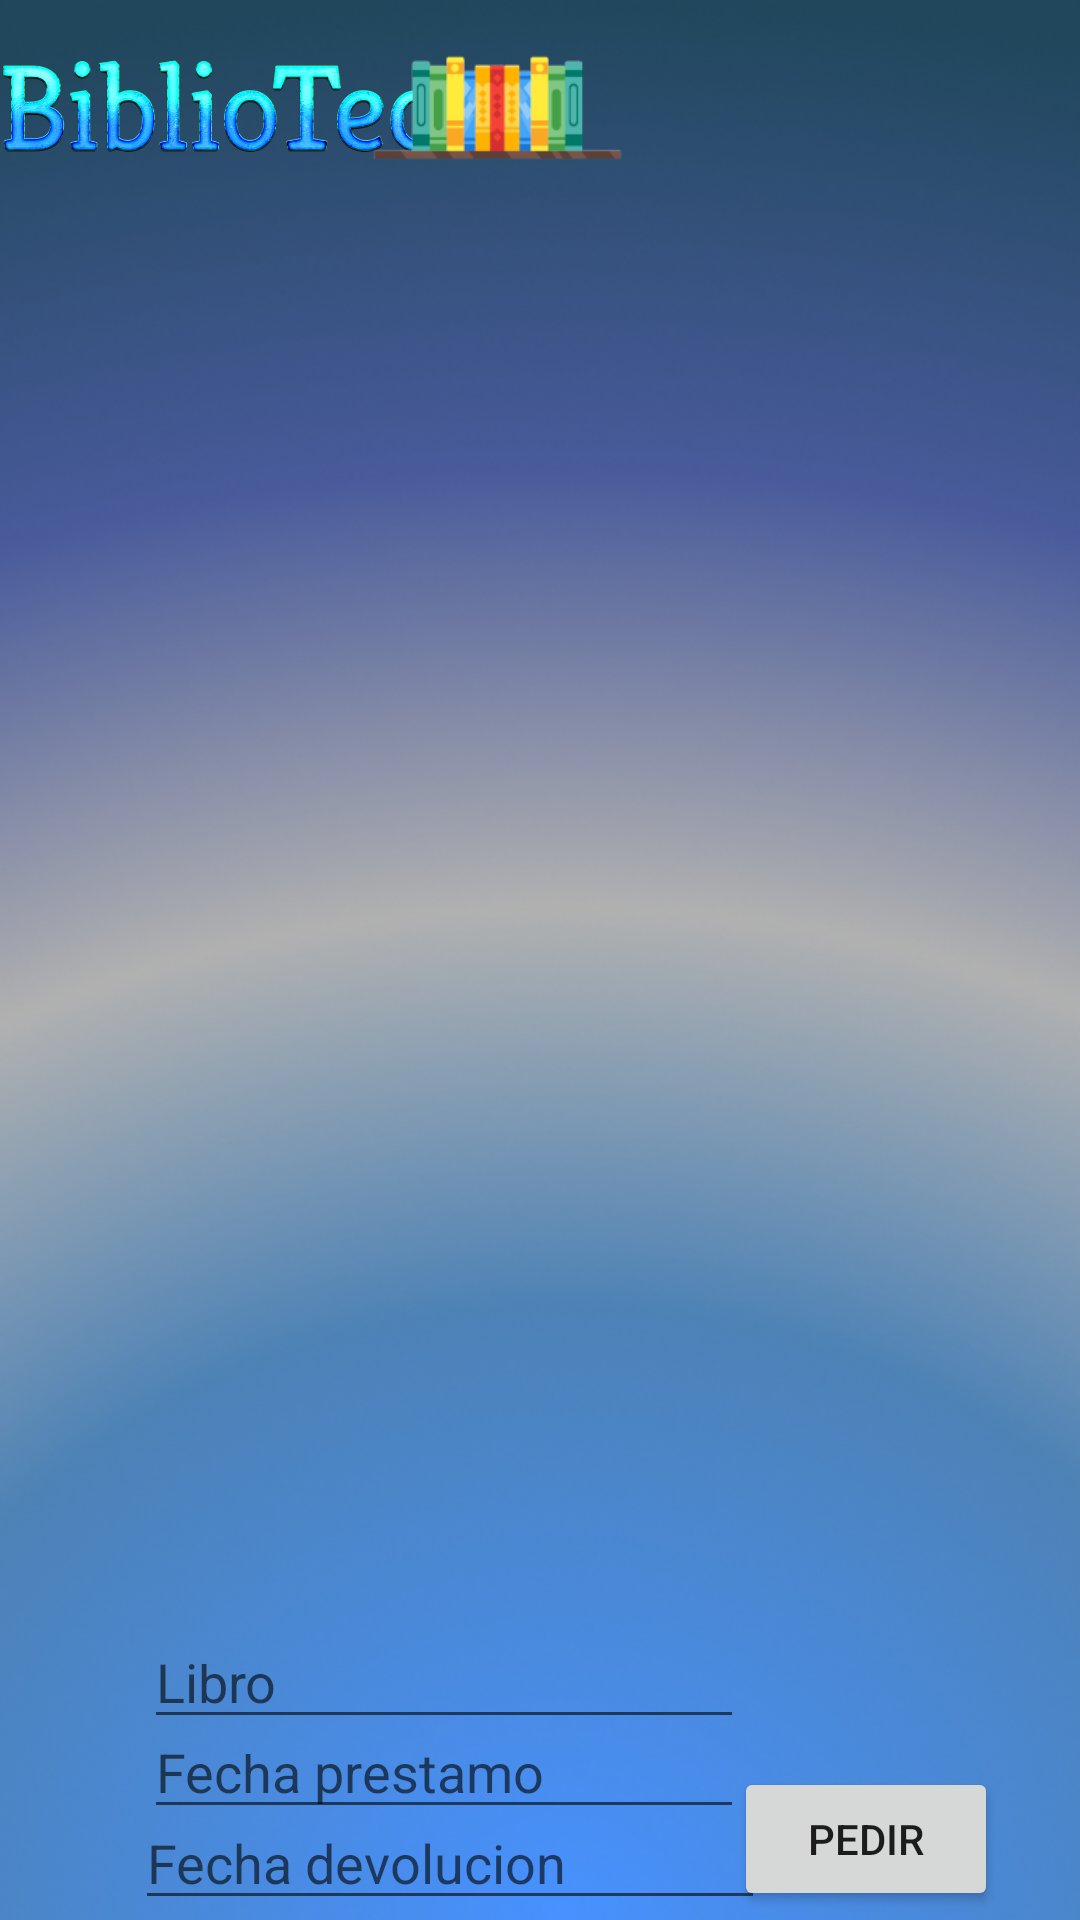

Icon click points for this 1080px x 1920px phone screenshot, format (x,y):
libros: (488,107)
